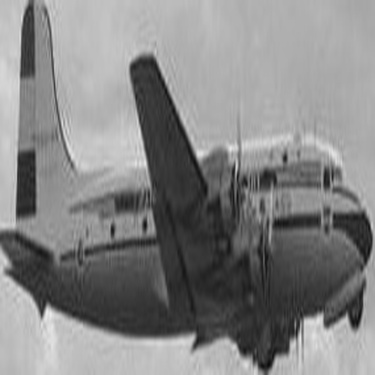airplane: (1, 22, 369, 373)
